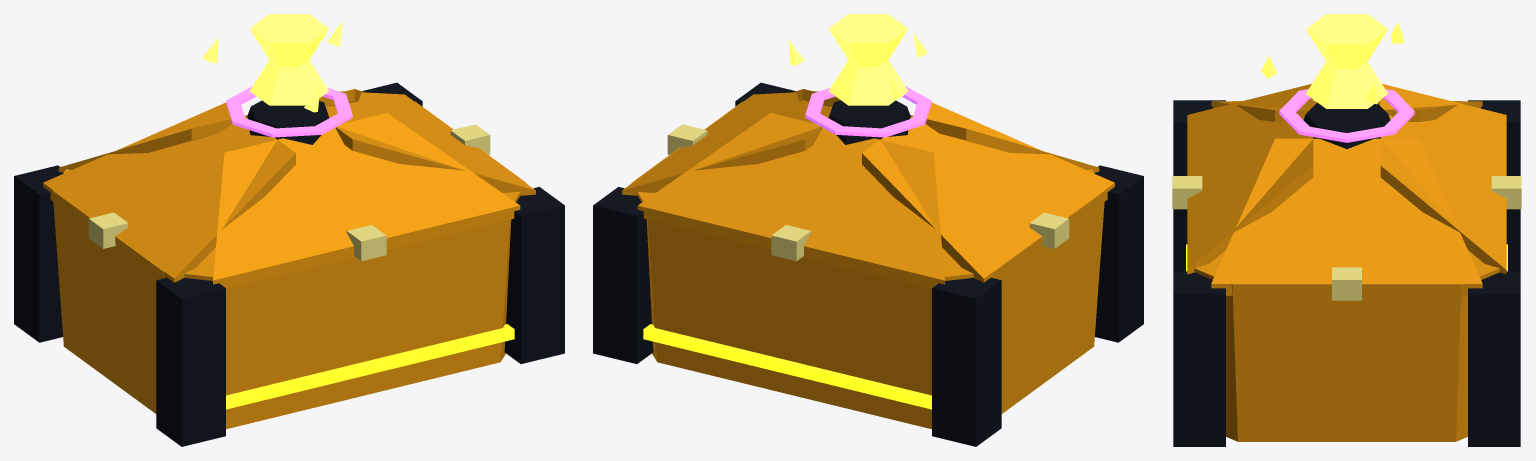
Rendered from chest_gold.glb.
3 views of the same model, side by side, from view 1: azimuth 30°, elevation 25°; view 2: azimuth 150°, elevation 25°; view 3: azimuth 270°, elevation 25° (orthographic). The views are drawn at different scales.
Parts seen in each view (by area): view 1: Chest_Gold_Body, Chest_Gold_Lid_South, Chest_Gold_Lid_West, Chest_Gold_CornerBracket_0, Chest_Gold_CornerBracket_1, Chest_Gold_CornerBracket_3, Chest_Gold_Lid_East, Chest_Gold_Energy_Crystal, Chest_Gold_LED_-0.8, Chest_Gold_HoloLock_Ring, Chest_Gold_Lock_IrisHub, Chest_Gold_Lid_North (+3 smaller); view 2: Chest_Gold_Body, Chest_Gold_Lid_North, Chest_Gold_Lid_West, Chest_Gold_CornerBracket_3, Chest_Gold_CornerBracket_2, Chest_Gold_CornerBracket_0, Chest_Gold_Lid_East, Chest_Gold_Energy_Crystal, Chest_Gold_LED_0.8, Chest_Gold_HoloLock_Ring, Chest_Gold_Lock_IrisHub, Chest_Gold_Lid_South (+3 smaller); view 3: Chest_Gold_Body, Chest_Gold_Lid_East, Chest_Gold_Lid_South, Chest_Gold_Lid_North, Chest_Gold_CornerBracket_1, Chest_Gold_CornerBracket_2, Chest_Gold_Energy_Crystal, Chest_Gold_CornerBracket_0, Chest_Gold_CornerBracket_3, Chest_Gold_HoloLock_Ring, Chest_Gold_Lock_IrisHub, Chest_Gold_Lid_West (+3 smaller).
Boxes of the visible parts, box(x1,y1,x2,y2) form: Chest_Gold_Body: box(52, 101, 525, 429); Chest_Gold_Lid_South: box(213, 113, 520, 288); Chest_Gold_Lid_West: box(43, 102, 295, 282); Chest_Gold_CornerBracket_0: box(156, 277, 225, 446); Chest_Gold_CornerBracket_1: box(504, 187, 564, 363); Chest_Gold_CornerBracket_3: box(14, 165, 63, 342); Chest_Gold_Lid_East: box(322, 91, 535, 195); Chest_Gold_Energy_Crystal: box(249, 14, 329, 105); Chest_Gold_LED_-0.8: box(226, 324, 514, 409); Chest_Gold_HoloLock_Ring: box(226, 86, 352, 137); Chest_Gold_Lock_IrisHub: box(247, 100, 329, 144); Chest_Gold_Lid_North: box(58, 89, 365, 172); Chest_Gold_Body: box(632, 101, 1105, 429); Chest_Gold_Lid_North: box(637, 113, 944, 288); Chest_Gold_Lid_West: box(862, 102, 1114, 282); Chest_Gold_CornerBracket_3: box(932, 277, 1001, 446); Chest_Gold_CornerBracket_2: box(593, 187, 653, 363); Chest_Gold_CornerBracket_0: box(1094, 165, 1143, 342); Chest_Gold_Lid_East: box(622, 91, 835, 195); Chest_Gold_Energy_Crystal: box(828, 14, 908, 105); Chest_Gold_LED_0.8: box(643, 324, 931, 409); Chest_Gold_HoloLock_Ring: box(805, 86, 931, 137); Chest_Gold_Lock_IrisHub: box(828, 100, 910, 144); Chest_Gold_Lid_South: box(792, 89, 1099, 172); Chest_Gold_Body: box(1194, 101, 1499, 441); Chest_Gold_Lid_East: box(1211, 138, 1482, 295); Chest_Gold_Lid_South: box(1187, 84, 1313, 274); Chest_Gold_Lid_North: box(1380, 84, 1506, 274); Chest_Gold_CornerBracket_1: box(1173, 271, 1225, 446); Chest_Gold_CornerBracket_2: box(1468, 271, 1520, 446); Chest_Gold_Energy_Crystal: box(1306, 14, 1387, 108); Chest_Gold_CornerBracket_0: box(1173, 100, 1225, 271); Chest_Gold_CornerBracket_3: box(1468, 100, 1520, 271); Chest_Gold_HoloLock_Ring: box(1279, 89, 1414, 142); Chest_Gold_Lock_IrisHub: box(1303, 102, 1390, 148); Chest_Gold_Lid_West: box(1211, 101, 1482, 121).
Bounding box in the file's own units: 2.46 × 1.91 × 1.86.
